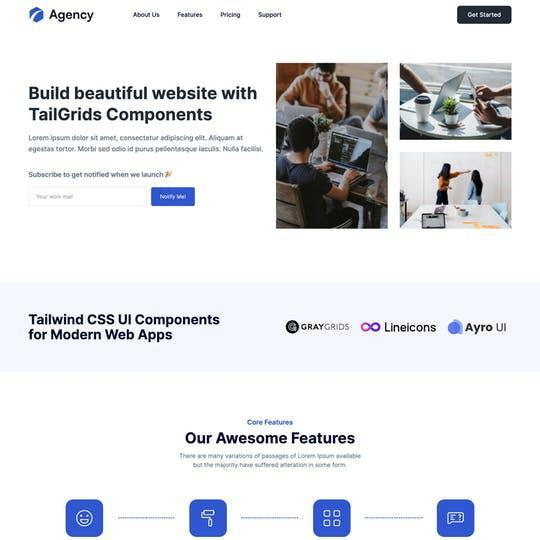button: (457, 6, 514, 25), (151, 187, 197, 209)
input: (26, 187, 147, 208)
